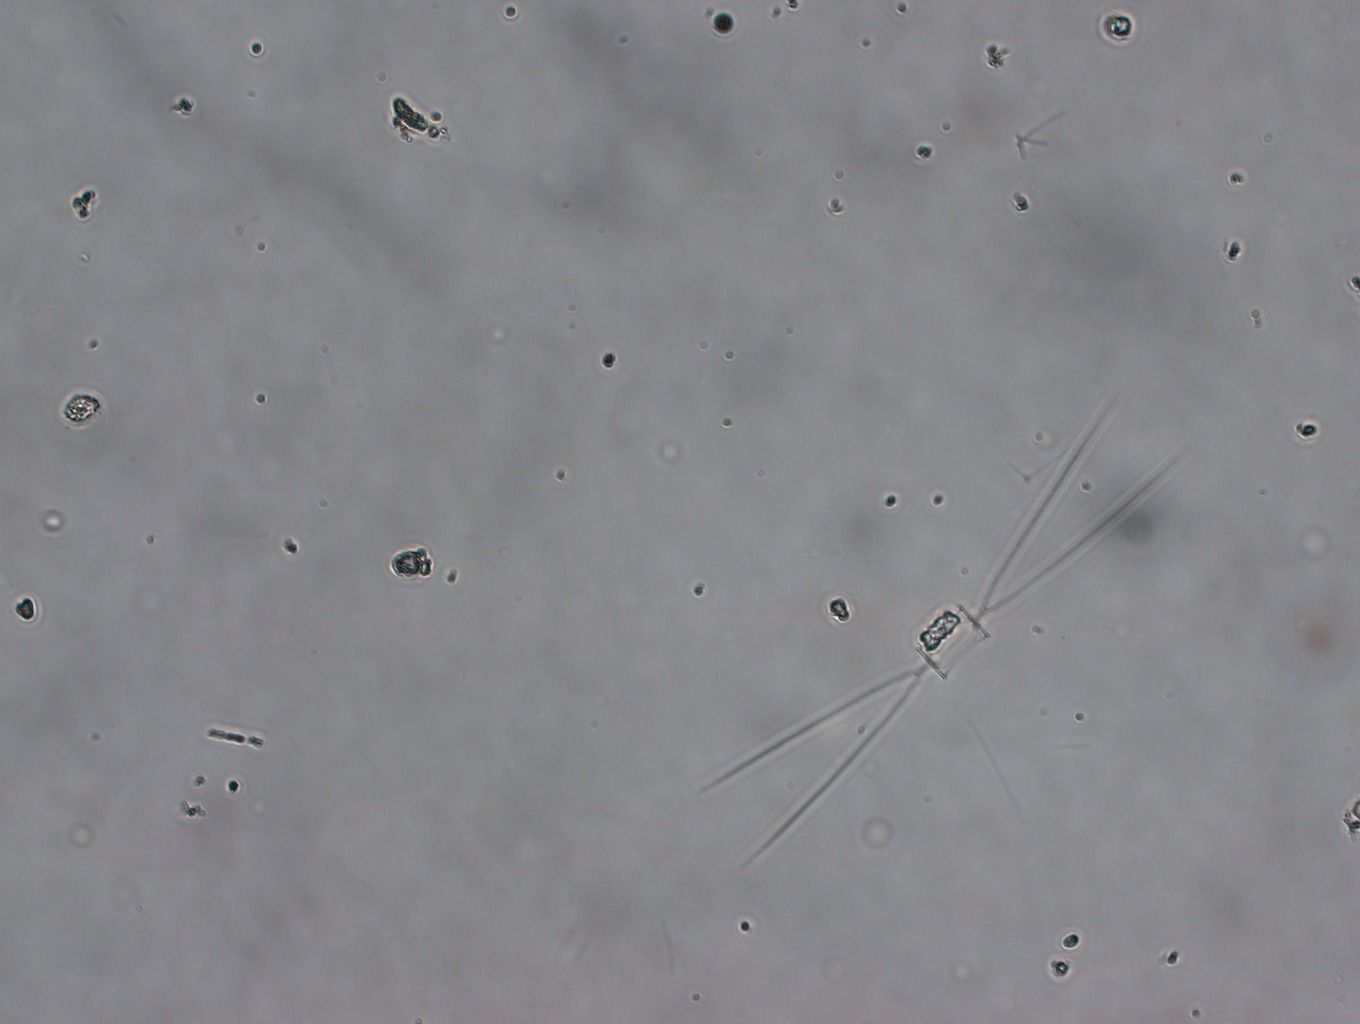chaetoceros: (681, 374, 1186, 883)
